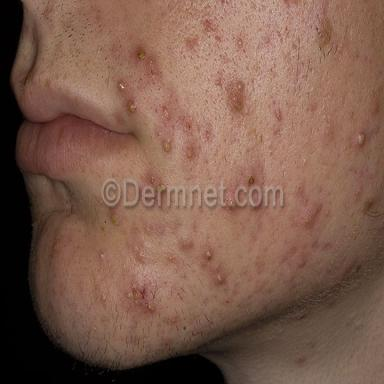acne: (292, 178, 323, 228), (126, 281, 153, 312), (227, 80, 245, 112), (146, 57, 162, 80), (177, 234, 194, 250), (133, 246, 150, 260), (356, 128, 366, 146), (256, 253, 265, 273), (372, 98, 382, 114), (137, 45, 146, 62), (214, 71, 223, 87), (147, 173, 157, 186), (162, 106, 171, 120), (299, 254, 307, 268), (127, 100, 136, 112), (185, 146, 193, 158), (111, 214, 119, 226), (275, 108, 283, 120), (163, 140, 171, 151), (247, 175, 255, 186), (296, 354, 305, 363), (54, 237, 60, 250), (237, 38, 244, 49), (205, 250, 212, 261), (205, 20, 212, 31), (205, 129, 211, 141), (119, 80, 125, 91), (169, 315, 177, 323), (228, 199, 235, 208), (217, 275, 223, 285), (101, 253, 107, 262), (213, 264, 219, 272), (169, 255, 175, 261), (103, 293, 107, 301), (325, 209, 330, 215), (245, 109, 248, 115), (187, 124, 191, 128)
